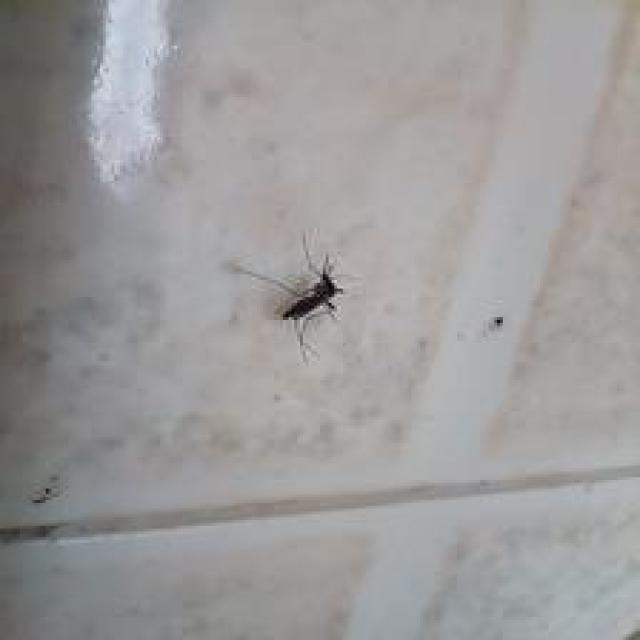Aedes albopictus: (230, 231, 353, 363)
